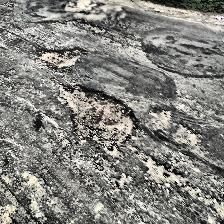pothole: (56, 83, 136, 149), (36, 46, 86, 68)
